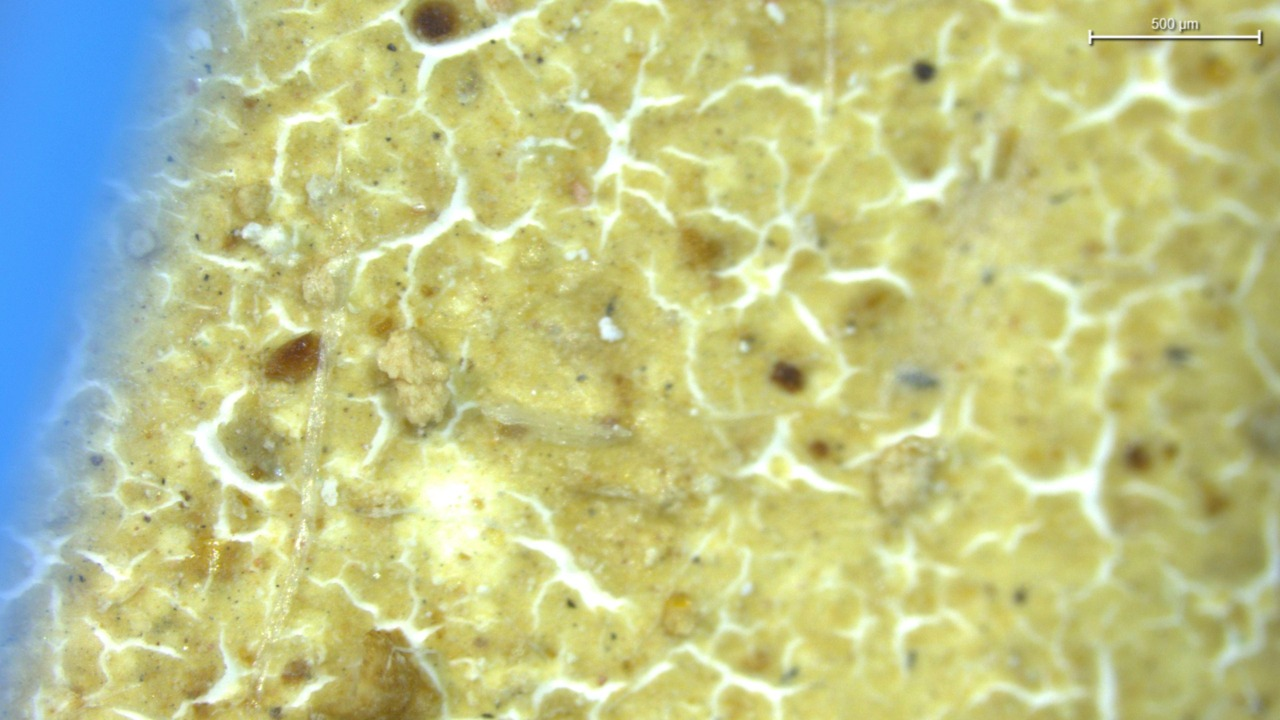microplastic_fragment: (376, 332, 451, 423), (242, 225, 282, 252)
